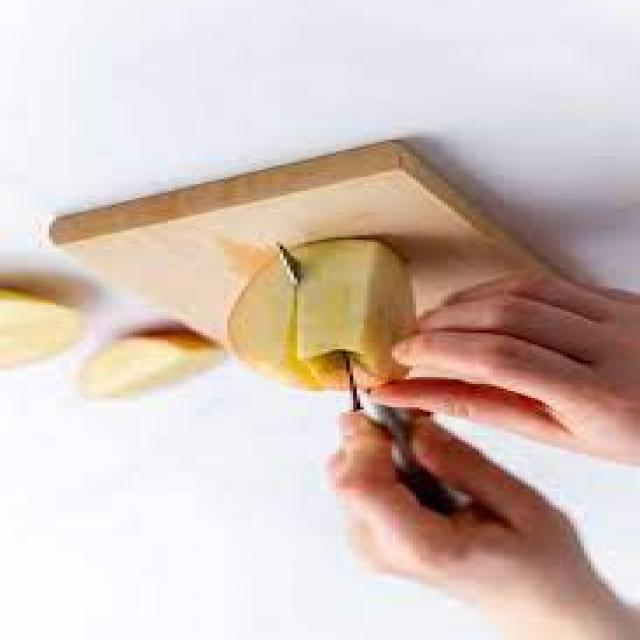Apple: (232, 236, 418, 394), (79, 330, 230, 412), (6, 281, 81, 376)
